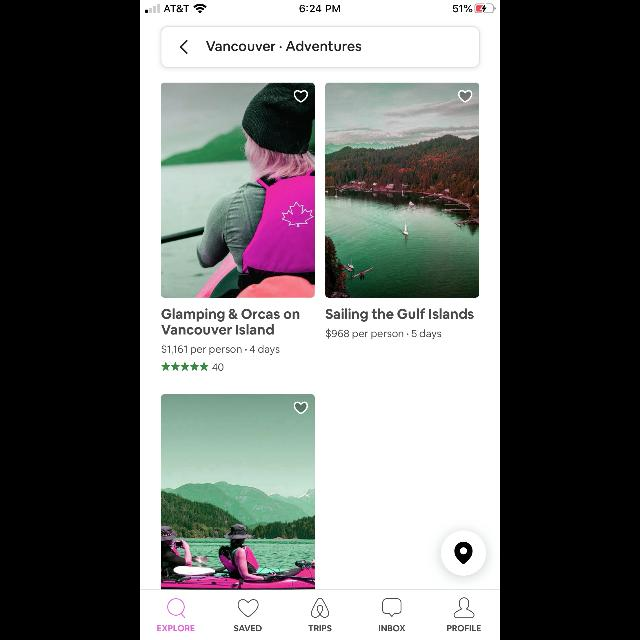icon: (440, 530, 486, 576), (162, 362, 208, 372), (454, 598, 474, 618), (168, 598, 186, 618), (238, 599, 258, 617), (382, 598, 402, 616), (294, 90, 308, 104), (458, 90, 472, 104), (294, 402, 308, 414), (180, 40, 188, 54)
image: (161, 82, 315, 298), (325, 82, 479, 298), (162, 395, 314, 589), (311, 598, 329, 618)
input: (160, 26, 480, 68)
text: (162, 309, 300, 335), (326, 308, 474, 322), (206, 40, 362, 51), (162, 344, 280, 356), (326, 328, 442, 339), (158, 625, 195, 631), (308, 624, 332, 632), (448, 625, 480, 631), (234, 625, 262, 631), (379, 625, 405, 631), (212, 363, 224, 371)
uppertaskbar: (140, 0, 500, 14)
